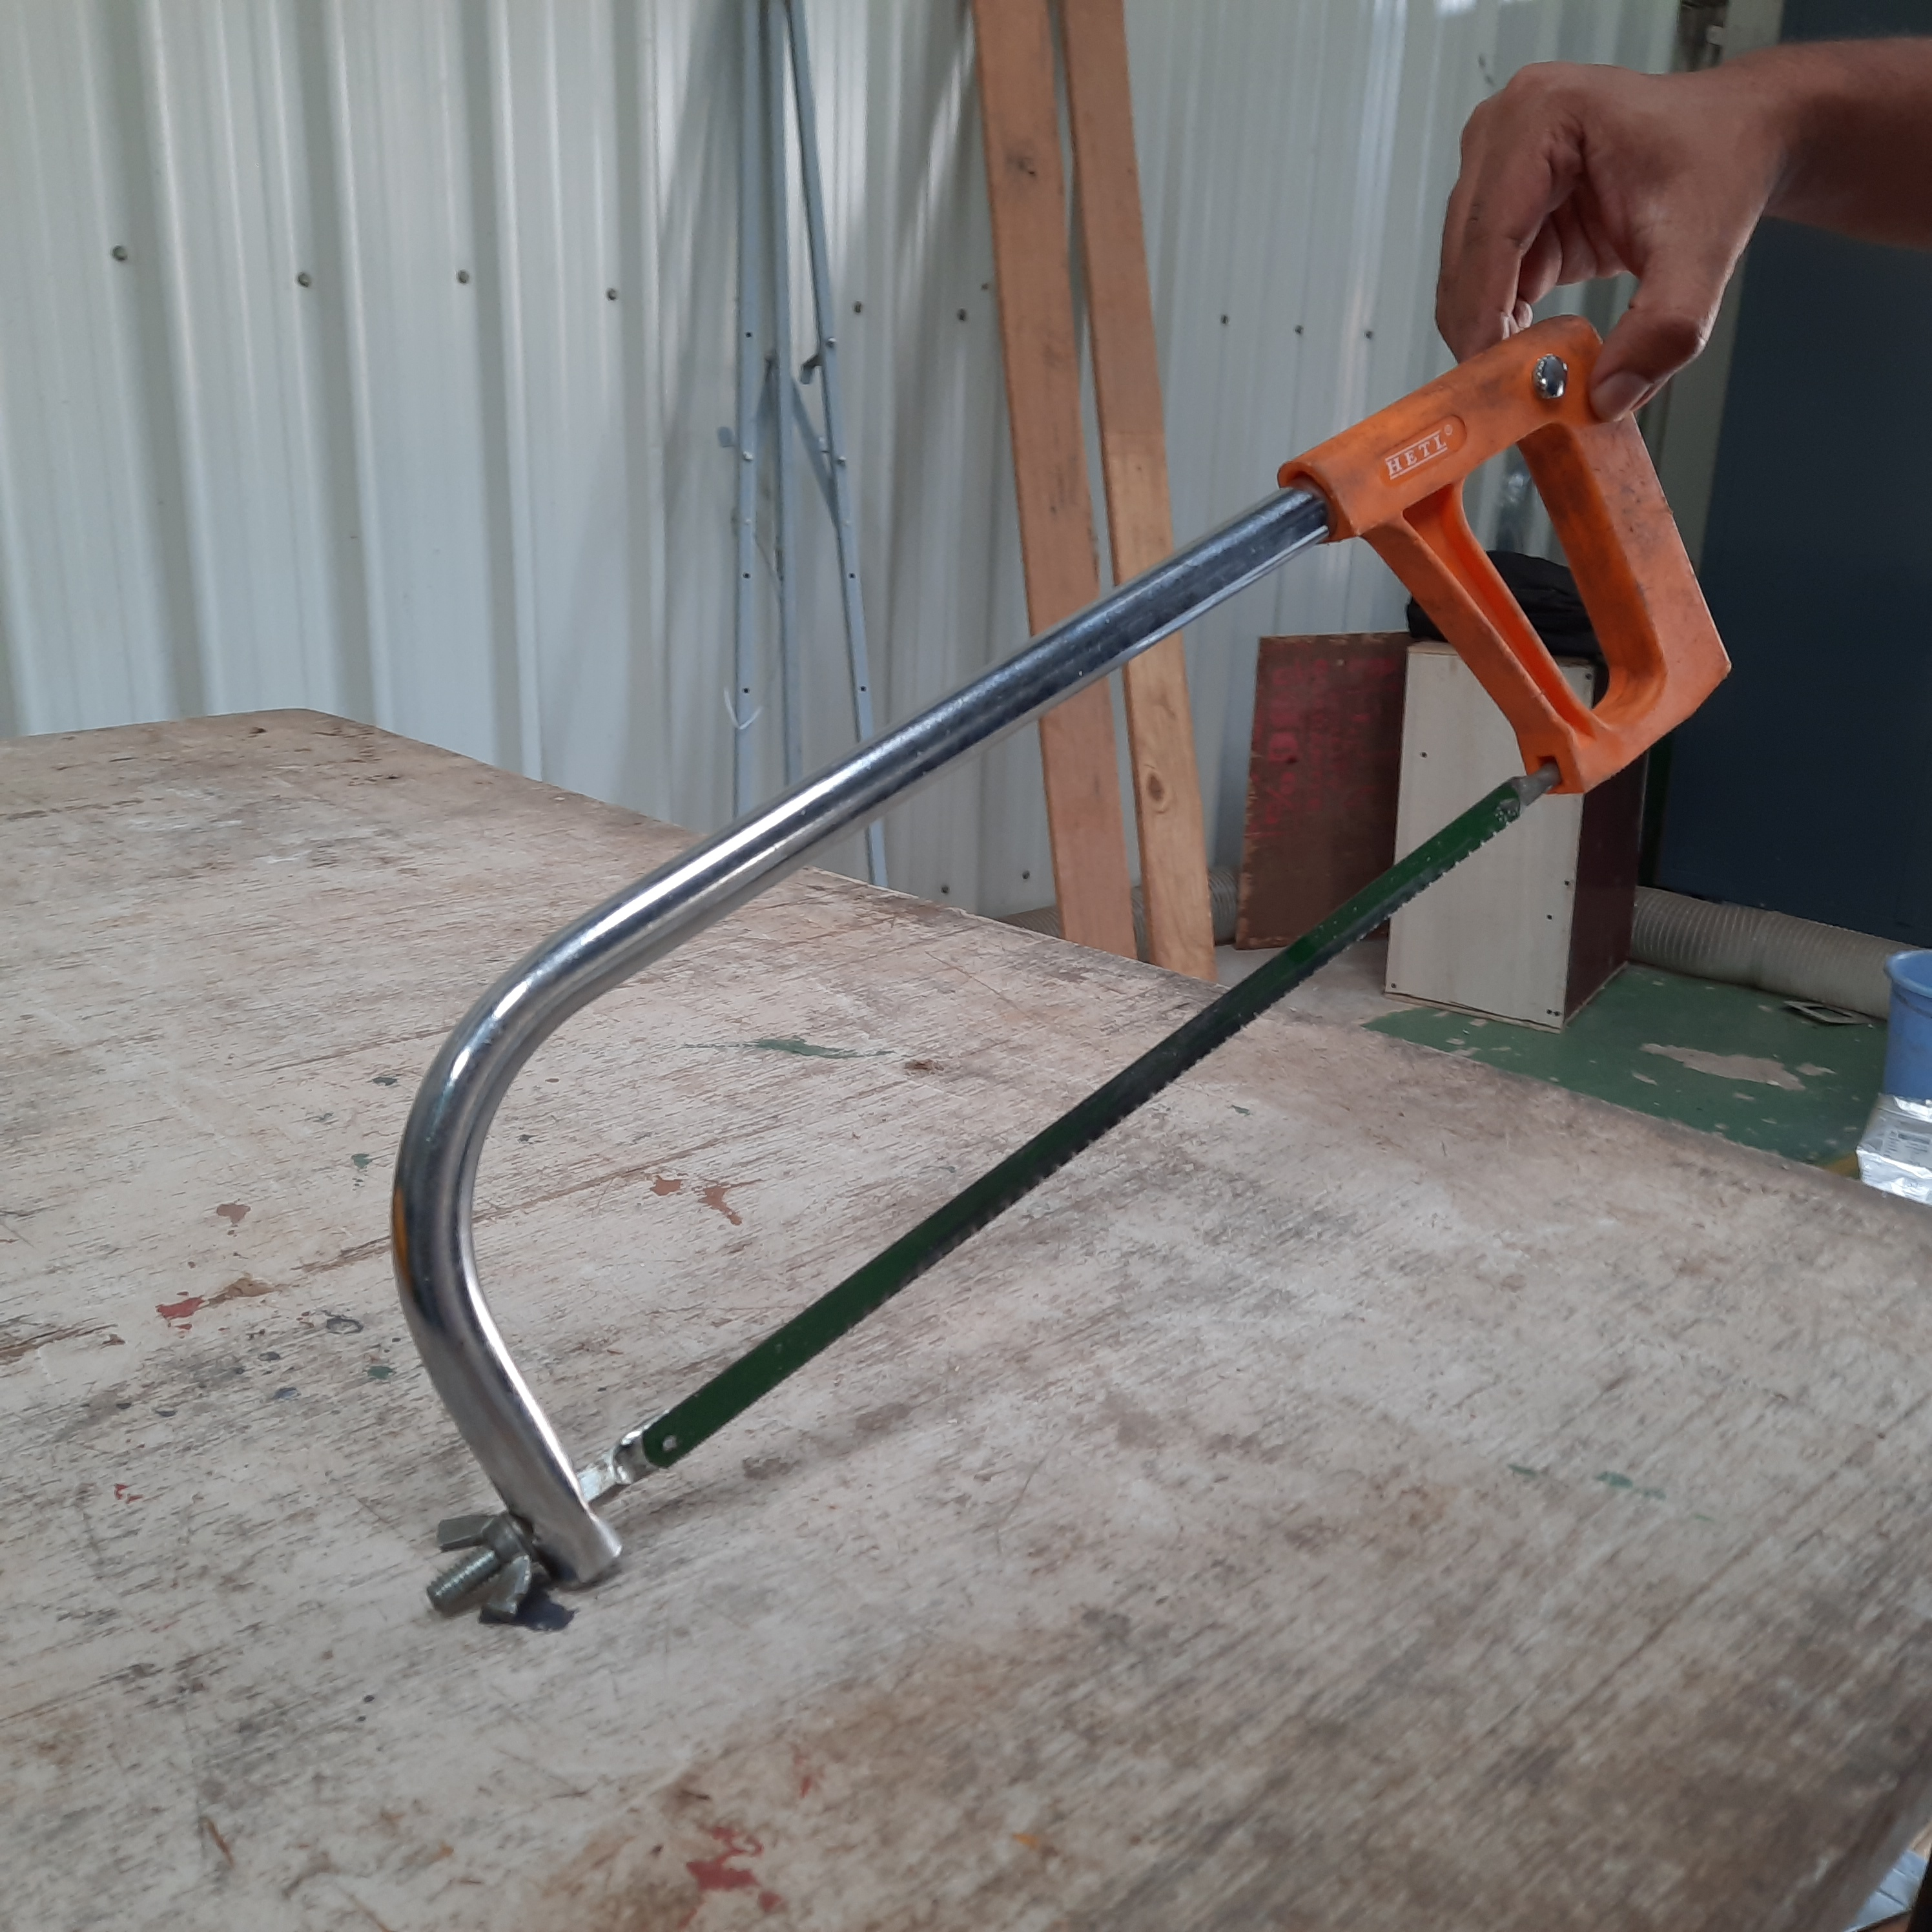Hexaframe: (334, 290, 1808, 1645)
